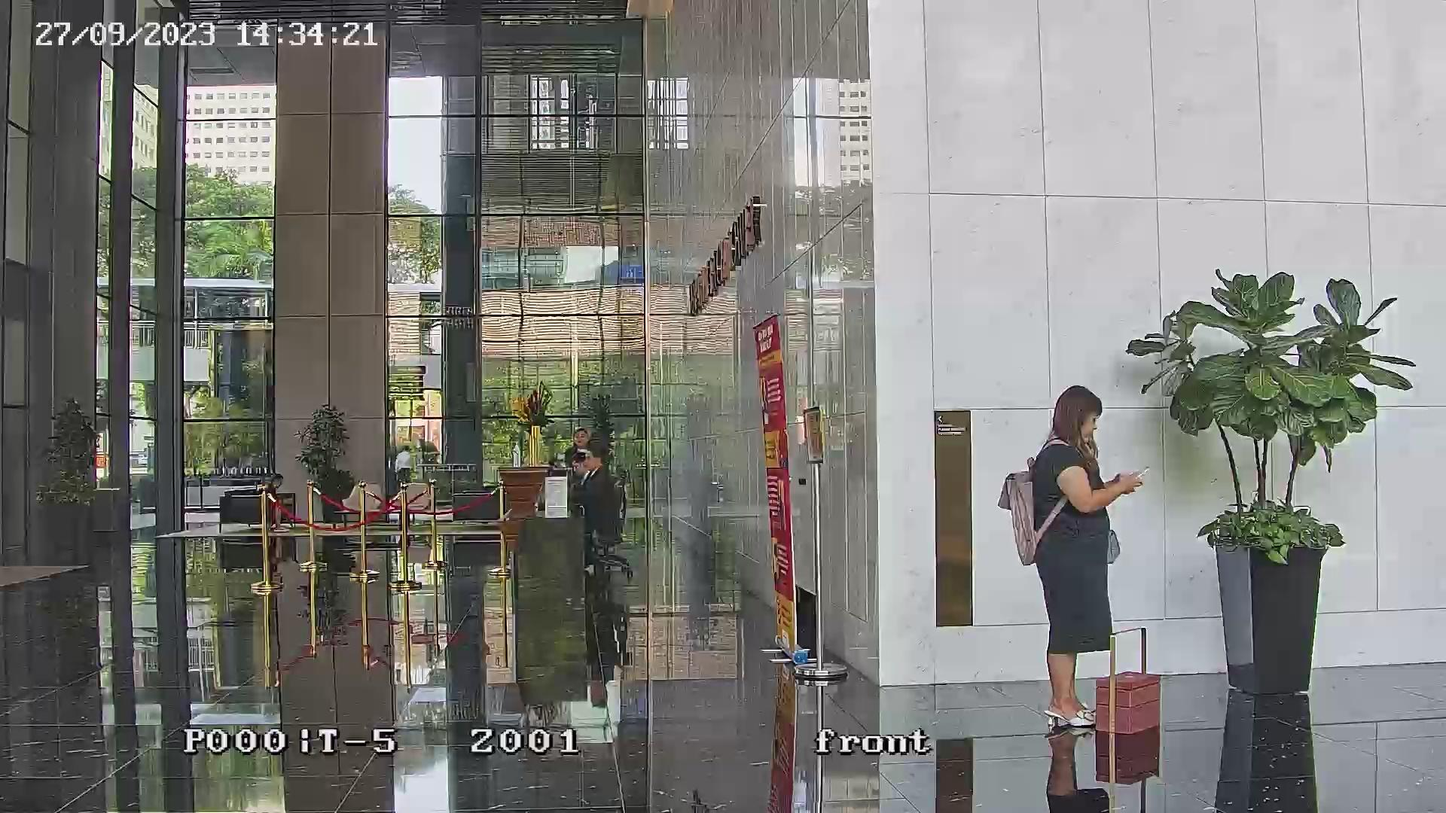person: (1026, 385, 1148, 730), (582, 445, 616, 533), (257, 474, 291, 533), (564, 428, 589, 462)
